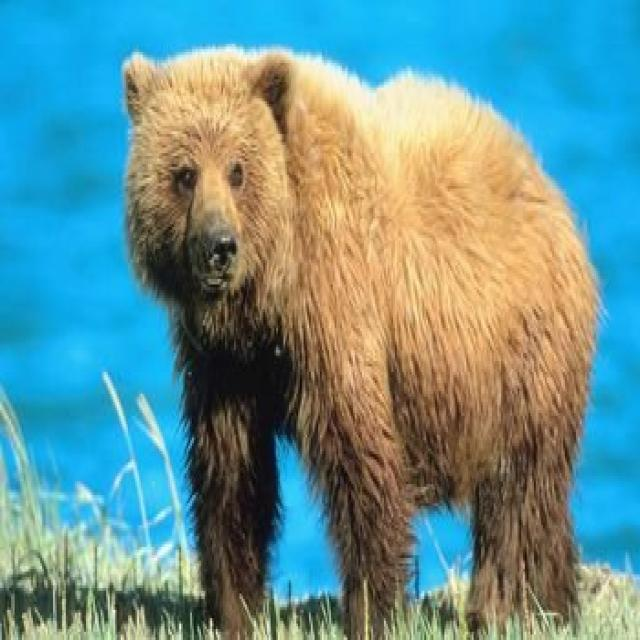bear: (126, 49, 598, 637)
